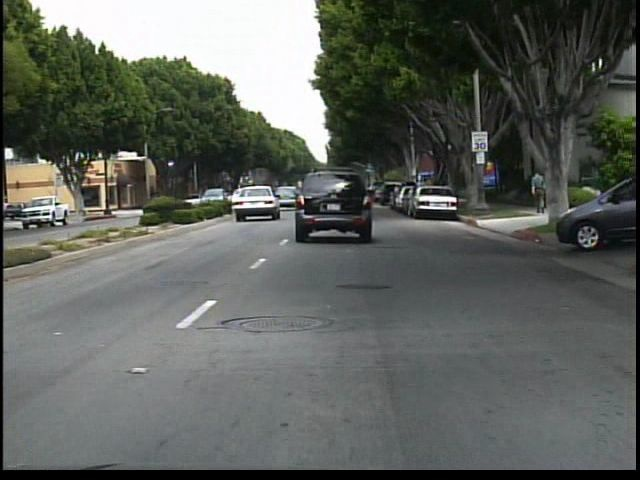person: (526, 167, 549, 218)
